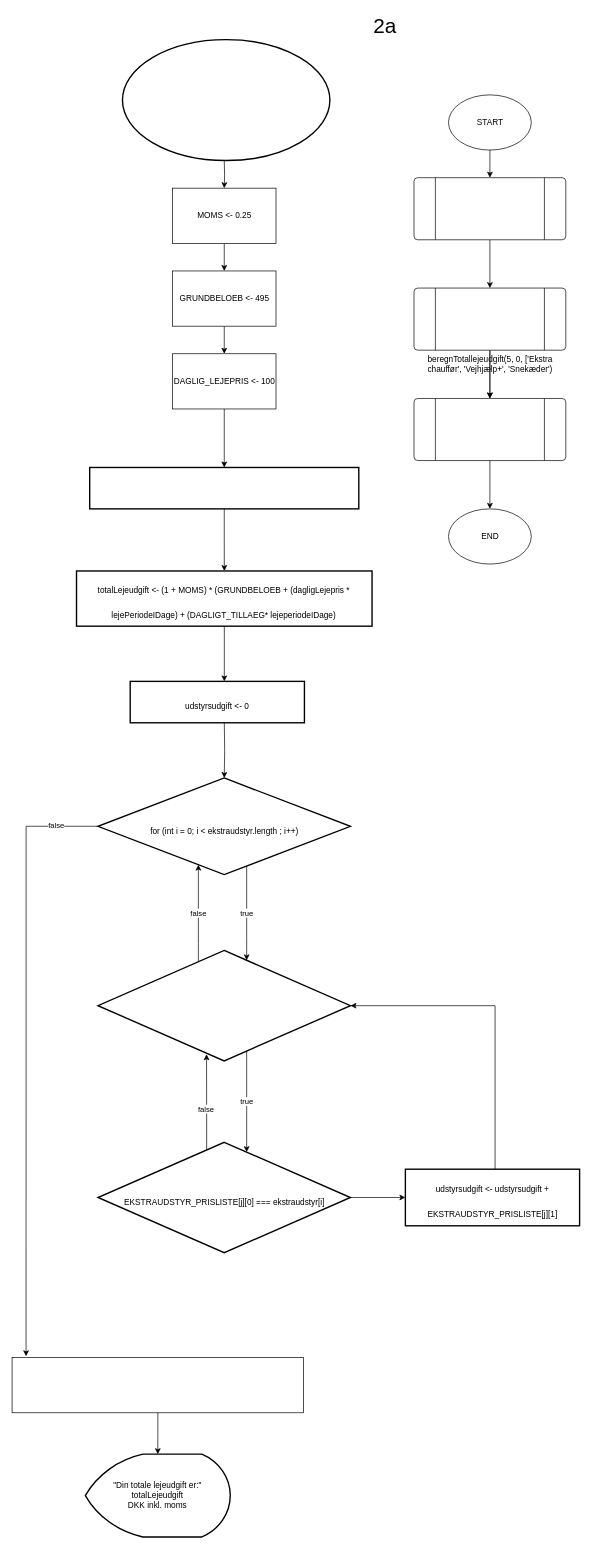
This 592x1549 diagram has some shape labels left out. The shapes that lost their labels are listed below. From the top down, each one's box as (x1, y1, x2, y2) in pixels, then its label:
(121, 39, 330, 161): beregnTotallejeudgift (lejeperiodeIDage, dagligtTillaeg, ekstraudstyr)
(413, 177, 566, 240): beregnTotallejeudgift( 7, 60, [ 'Ekstra chauffør' , 'Barnesæde (1-4 år)')
(413, 398, 566, 461): beregnTotallejeudgift( 3, 105)
(89, 466, 359, 509): EKSTRAUDSTYR_PRISLISTE = [['Ekstra chauffør', 199] ' [...]... ]
(97, 949, 351, 1061): for (int j = 0; j < EKSTRAUDSTYR_PRISLISTE.length ; j++)
(11, 1357, 304, 1413): totalLejeudgift <- totalLejeudgift + udstyrsudgift
